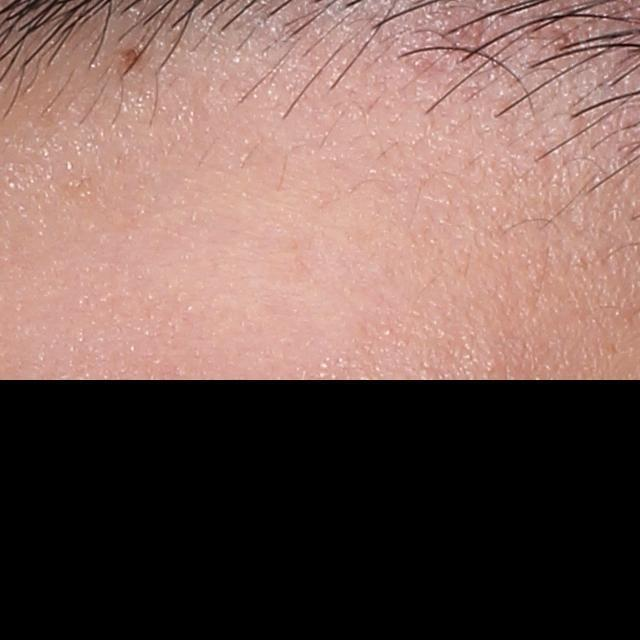nevus: (117, 43, 149, 74)
